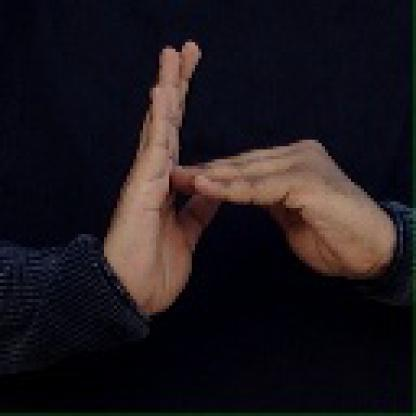Z: (111, 34, 382, 304)
